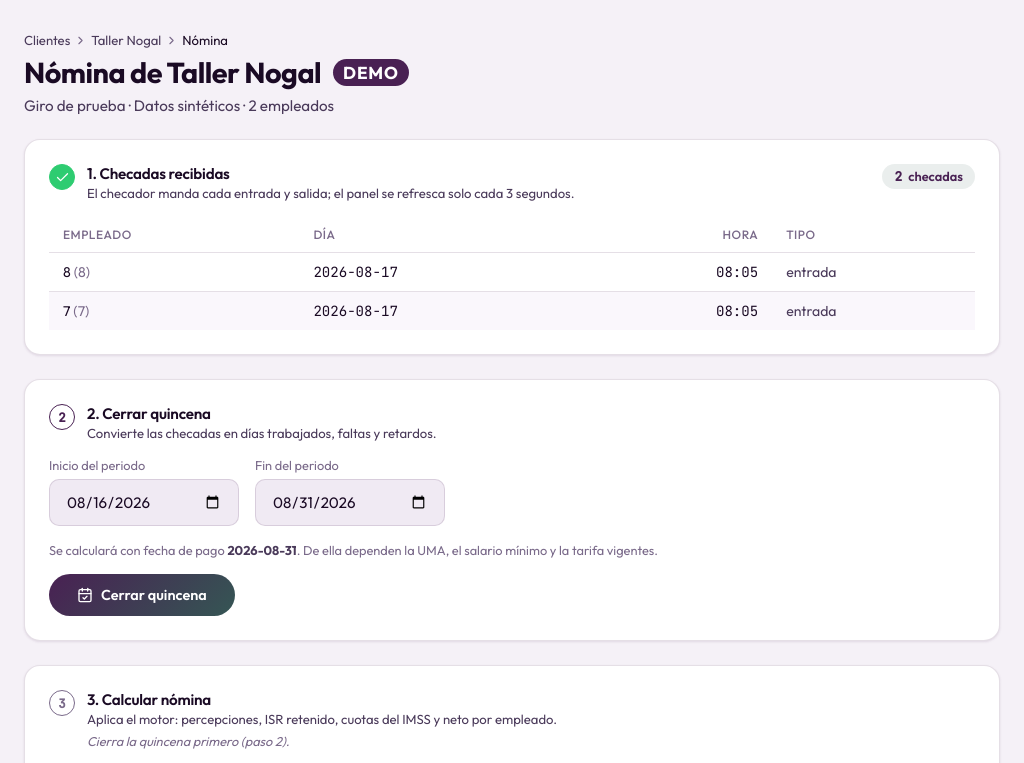
Test case: una periodicidad que no cuadra con el periodo no se calcula › un cliente Mensual con una quincena recibe el 422 del motor, y lo dice
Expected: the date field showing "2026-08-16" is shown, [49,479,239,526]
What coordinates should you click on to do the following:
click the button "Cerrar quincena"
I would click on:
 (142, 595)
Its box is [49,574,235,616].
(page scrolled)
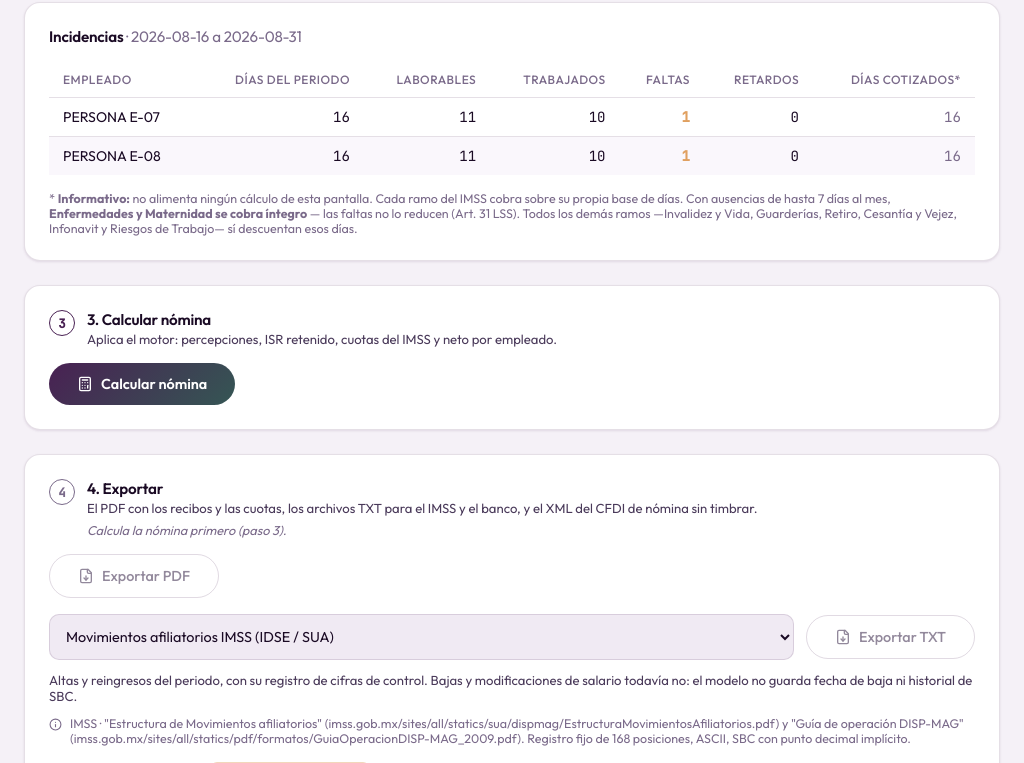
Expected: the text "PERSONA E-07" is shown, [49,98,196,136]
What coordinates should you click on to do the following:
click the button "Calcular nómina"
I would click on:
 (142, 384)
Its box is [49,363,235,405].
(page scrolled)
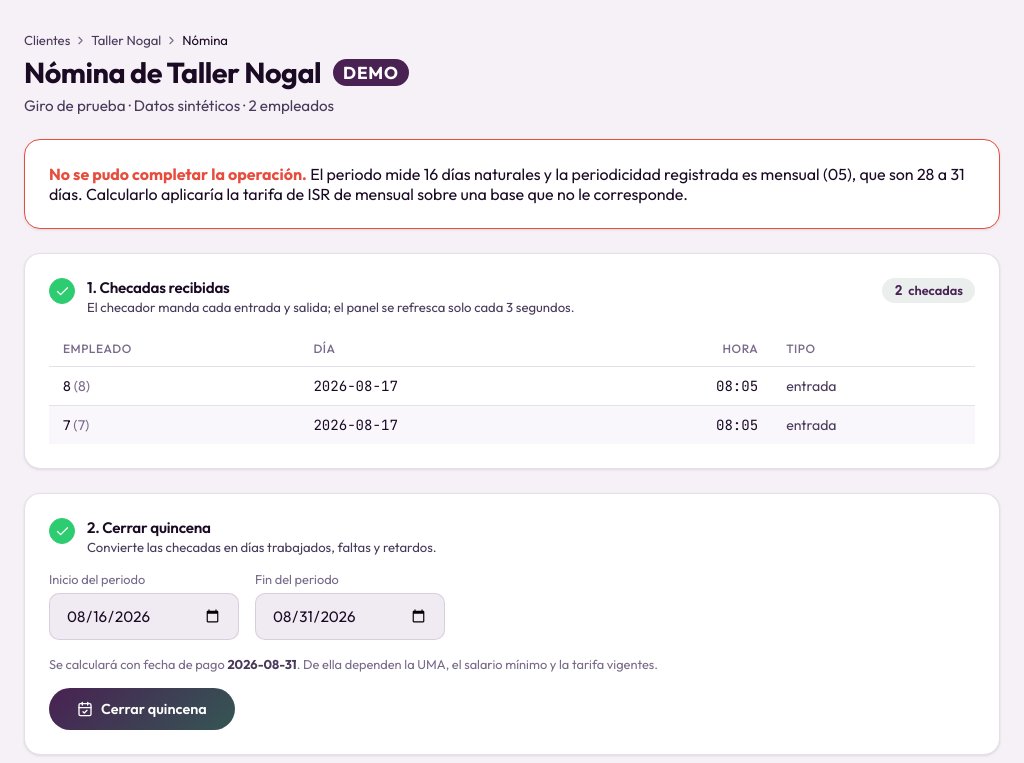
Expected: the text "la periodicidad registrada es mensual (05)" is shown, [49,164,964,204]
